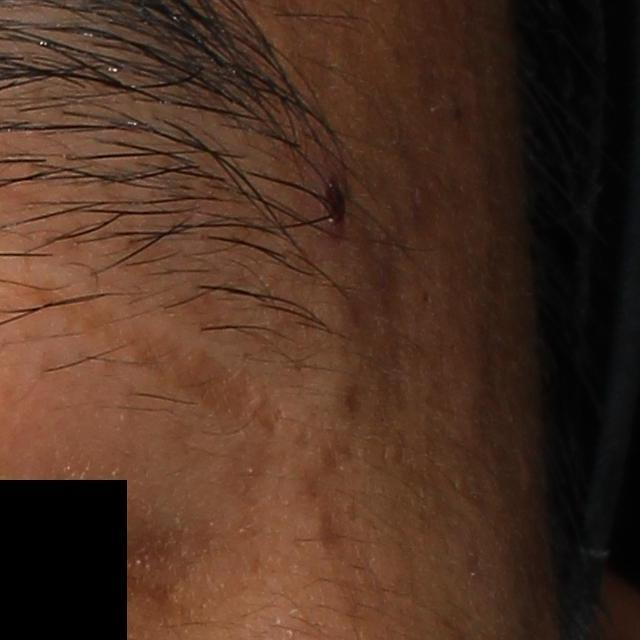nevus: (314, 171, 353, 230)
